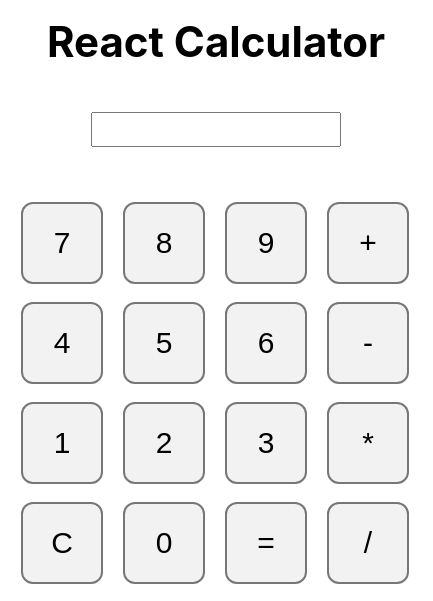
Test: React Calculator Tests › Edge Case Handling › handles division by zero
Click the button "1".
click(62, 443)  # box [21,402,103,484]
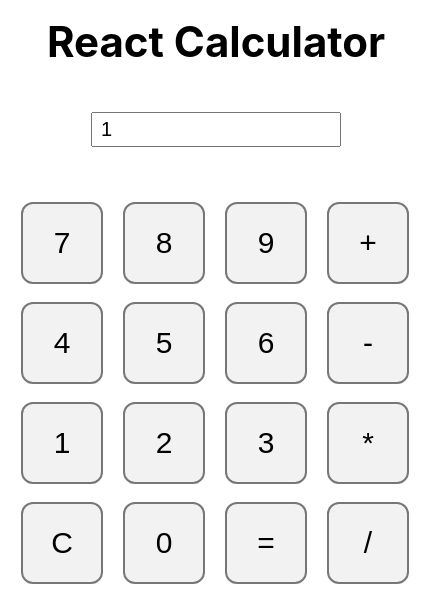
Click the button "/".
click(368, 543)  # box [327,502,409,584]
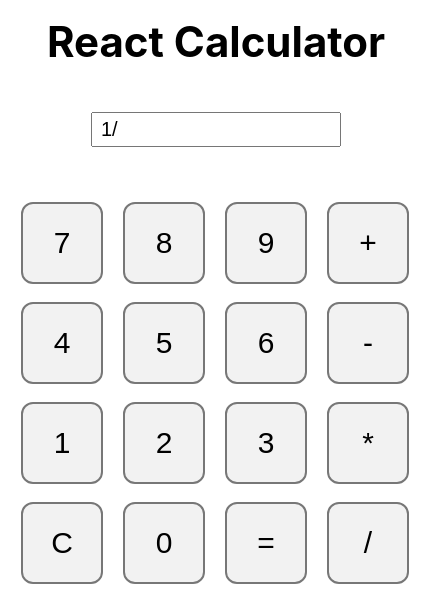
Click the button "0".
click(164, 543)  # box [123,502,205,584]
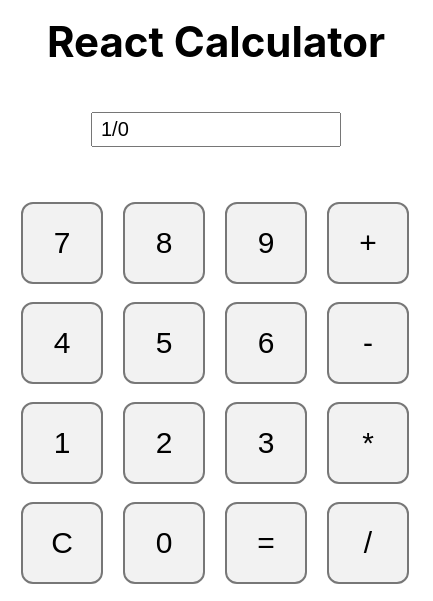
Click the button "=".
click(266, 543)  # box [225,502,307,584]
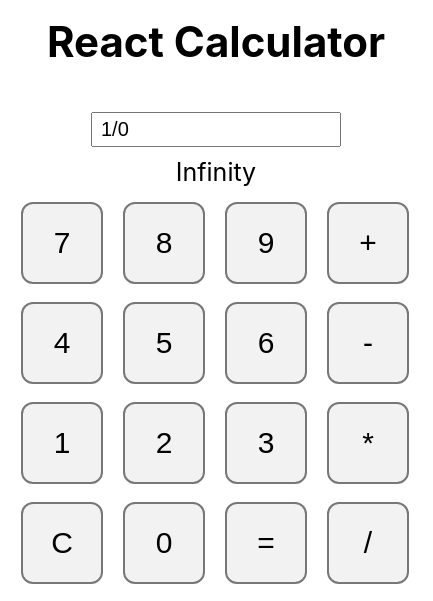
Now the text "Infinity" is shown, box [176,157,256,187]
